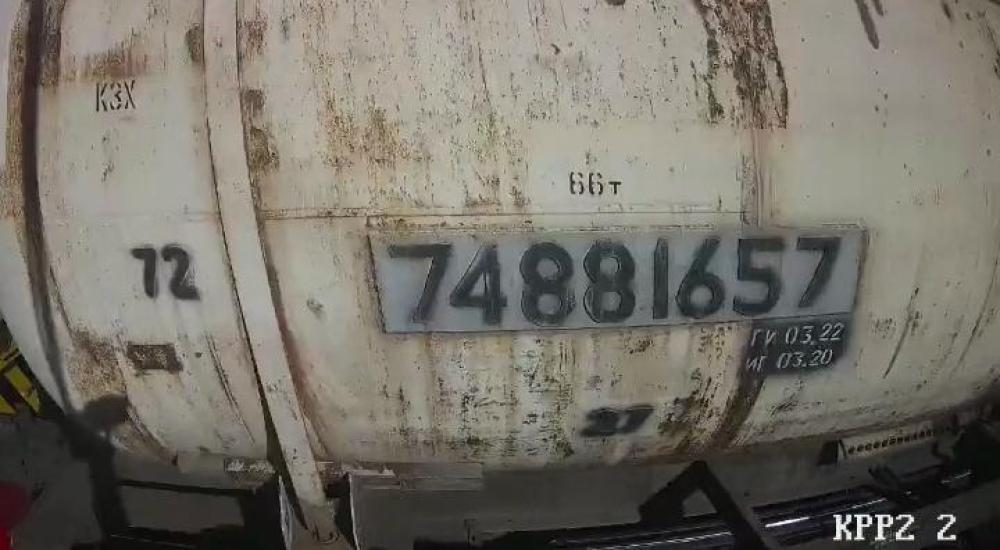Wagon-number: (388, 231, 845, 328)
